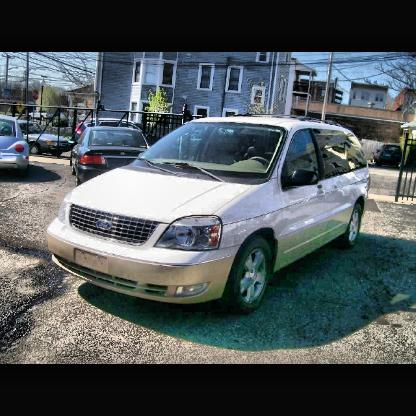Ford Freestar Minivan 2007: (52, 117, 373, 315)
